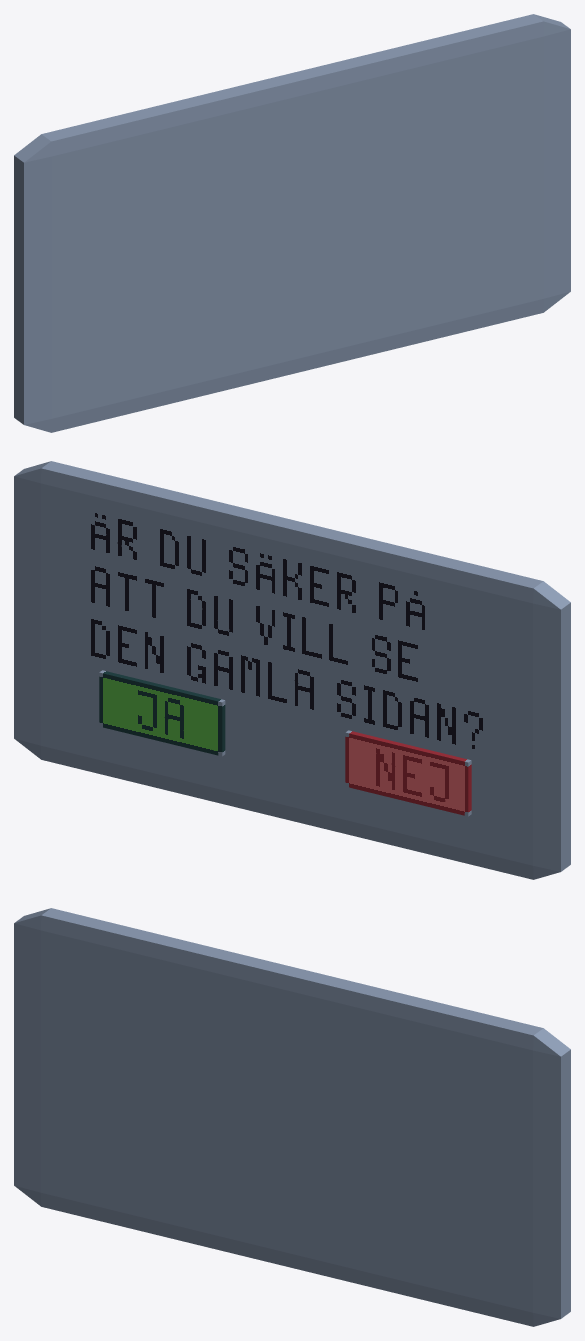
File: AREYOUSURE.glb
3 renders of one model, top to bottom at view 1: azimuth 30°, elevation 25°; view 2: azimuth 150°, elevation 25°; view 3: azimuth 330°, elevation 25°, orthographic.
Visible parts, largest first — view 1: TEXT; view 2: TEXT, NO, YES; view 3: TEXT.
Boxes of the visible parts, box(x1,y1,x2,y2) form: TEXT: box(14, 14, 570, 432); TEXT: box(14, 461, 570, 879); NO: box(345, 730, 471, 816); YES: box(99, 670, 225, 756); TEXT: box(14, 908, 570, 1326).
Bounding box in the file's own units: 3.93 × 2 × 0.1771.
1 material, 1 textured.
